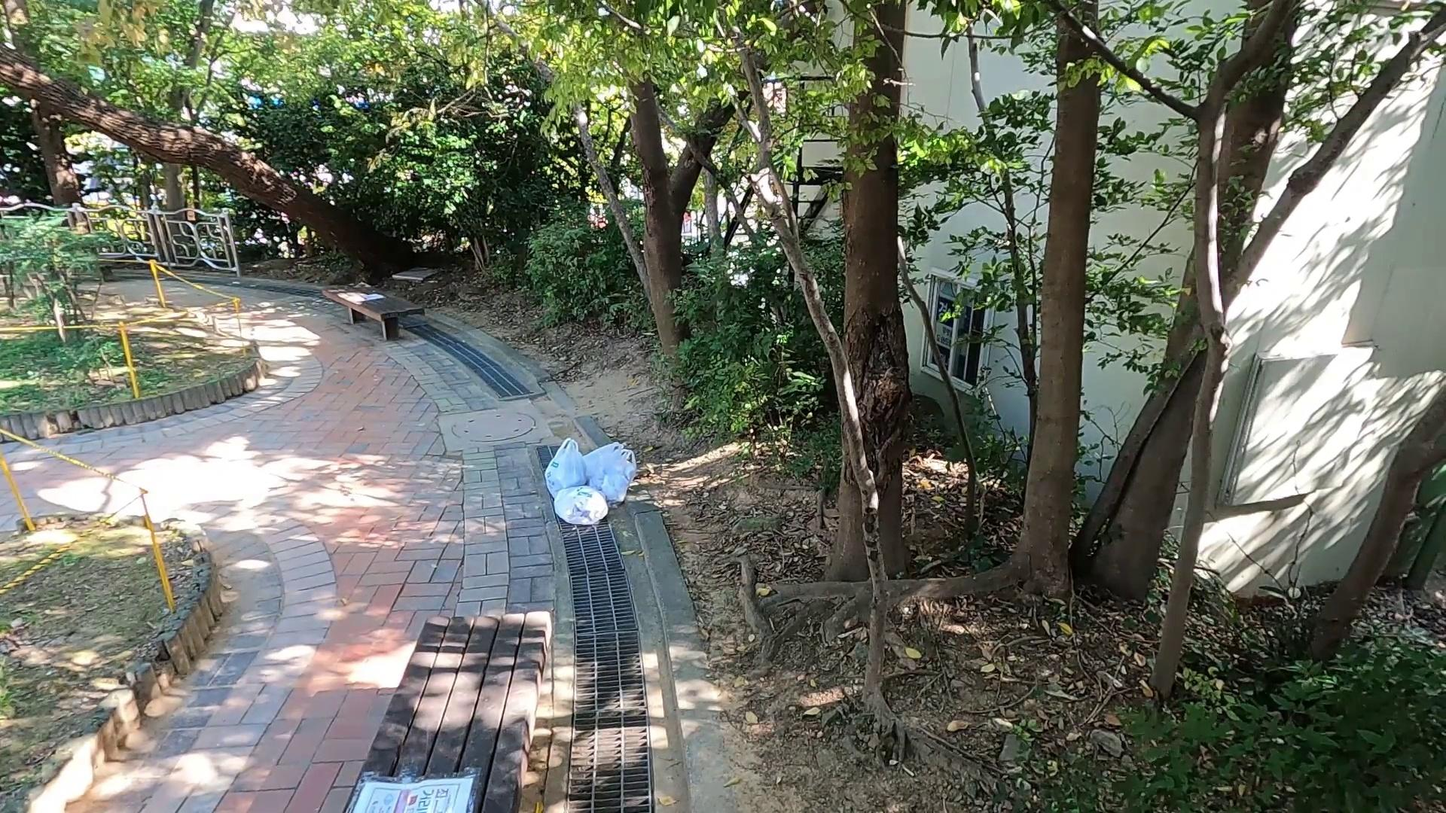trash: (542, 437, 587, 493), (552, 487, 608, 525), (599, 450, 635, 505), (578, 441, 621, 485)
